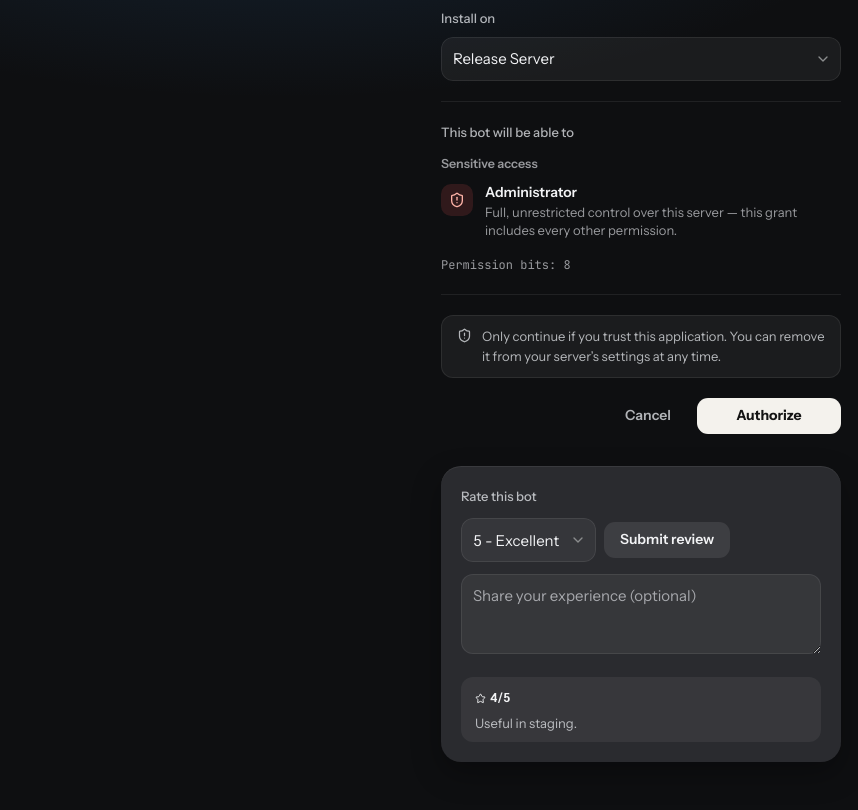
Test: BotAuthorizePage review flow › shows a user-visible error when review submission fails
This screenshot has width=858, height=810.
(page scrolled)
Click the button "Submit review" at (667, 540), box [604,522,730,558]
(page scrolled)
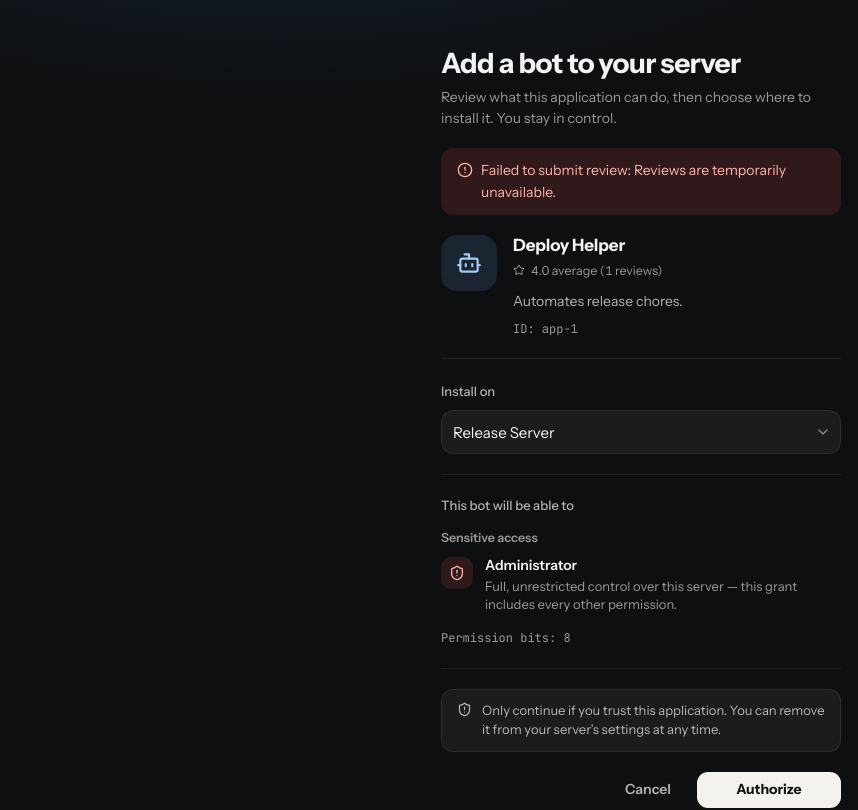
Result: the text "Failed to submit review: Reviews are temporarily unavailable." is shown at [481,160,825,203]
